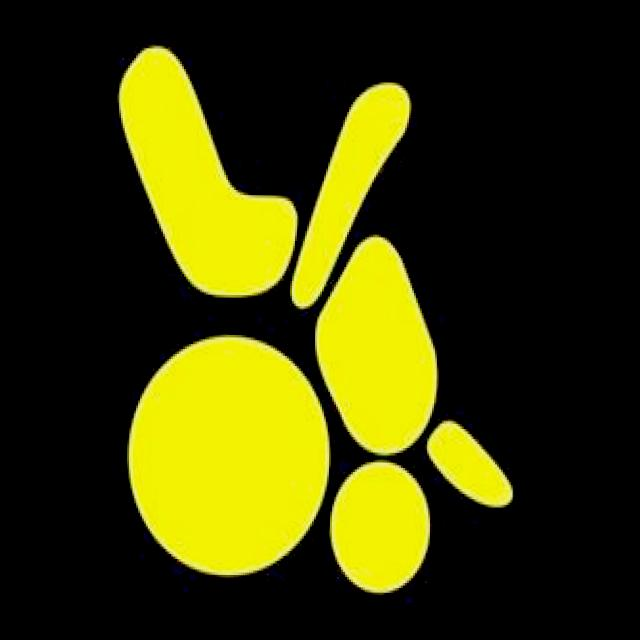kontrolka: (81, 25, 533, 607)
